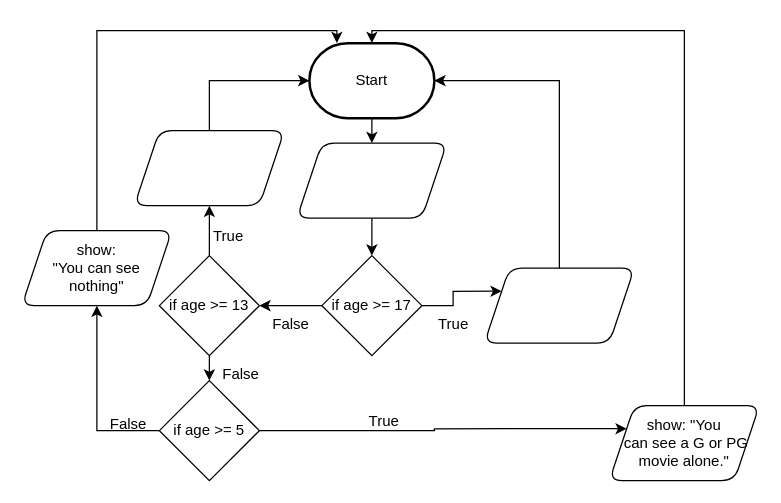
Image size: 781x503. Some labels were removed from this diagram. Each missing label, with the centre of its shape:
Ask for user's age: [371,180]
show: "You can see a PG-13 movie alone.": [208,167]
show: "You can see an R movie alone.": [558,305]
